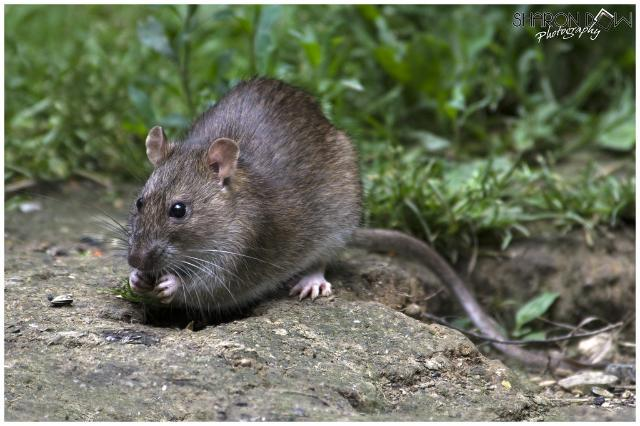rat: (109, 62, 415, 336)
